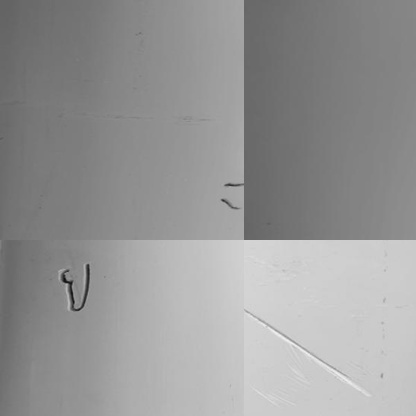fengxi: (58, 261, 94, 316), (220, 196, 237, 211), (224, 179, 243, 187)
sunshang: (243, 307, 366, 397)
